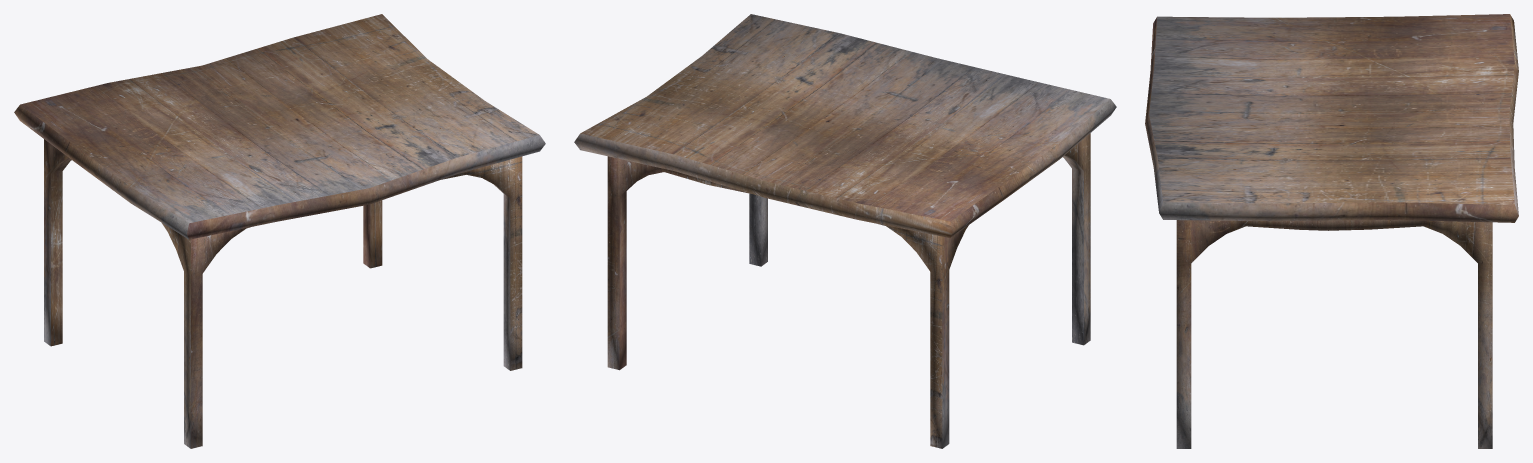
Rendered from table.FBX.
3 renders of one model, left to right at view 1: azimuth 30°, elevation 25°; view 2: azimuth 150°, elevation 25°; view 3: azimuth 270°, elevation 25°, orthographic. The views are drawn at different scales.
Parts seen in each view (by area): view 1: Box165; view 2: Box165; view 3: Box165.
Part boxes in pixels (<box>): Box165: <box>14,14,545,448</box>; Box165: <box>574,14,1116,448</box>; Box165: <box>1145,14,1518,448</box>.
Bounding box in the file's own units: 8.61 × 5.19 × 6.96.
